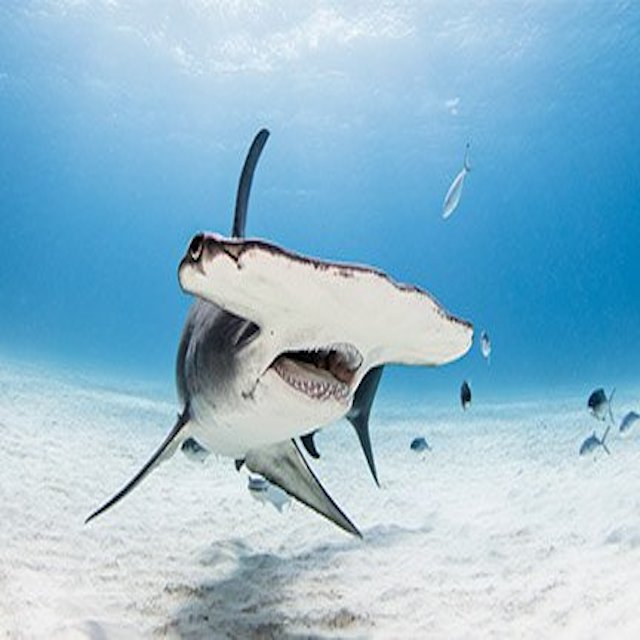hammerhead: (173, 211, 516, 425)
